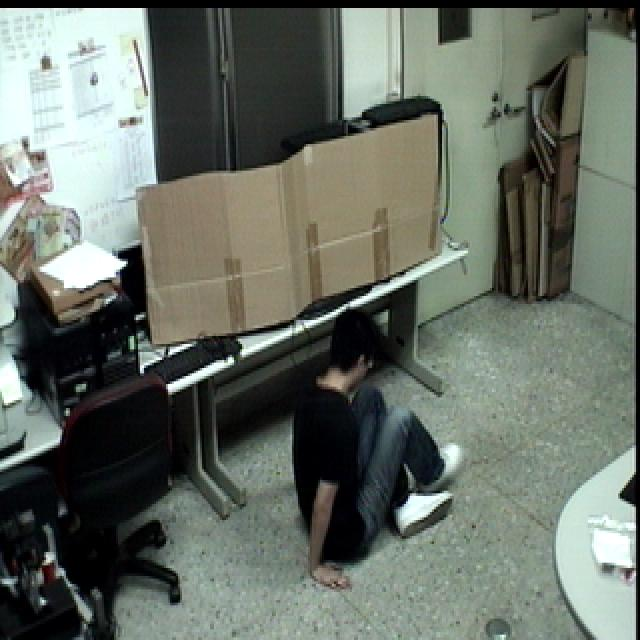sit: (287, 300, 471, 600)
